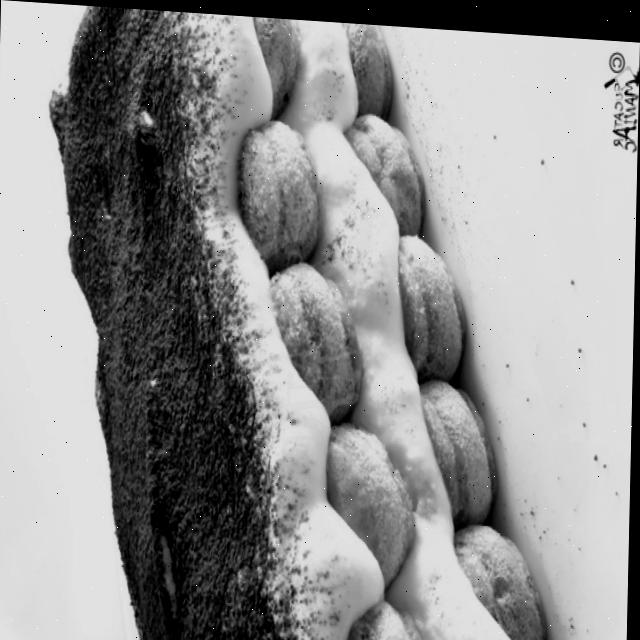蛋糕甜品: (26, 2, 597, 640)
